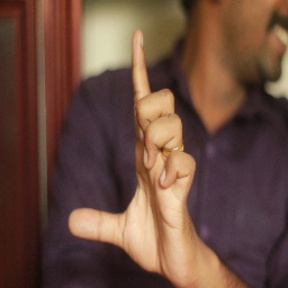L: (65, 28, 197, 285)
